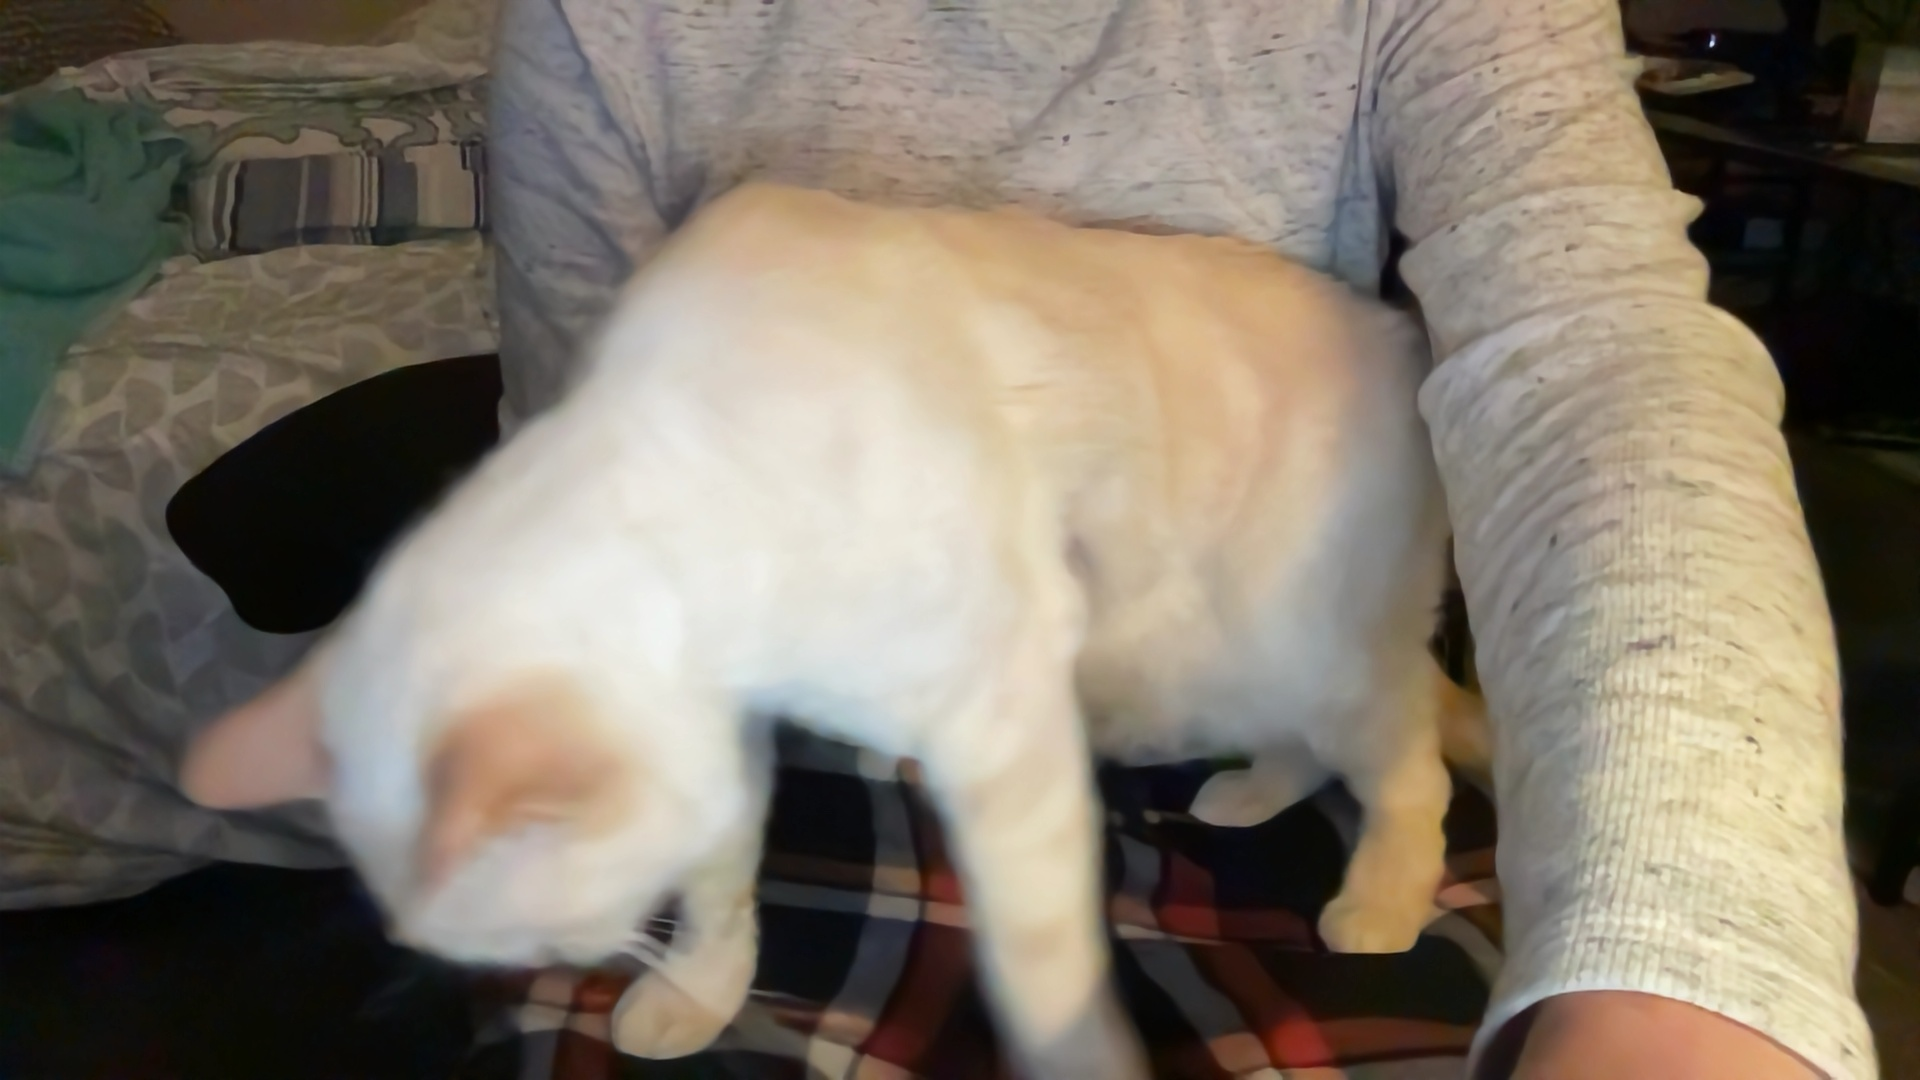cat: (183, 165, 1478, 1079)
